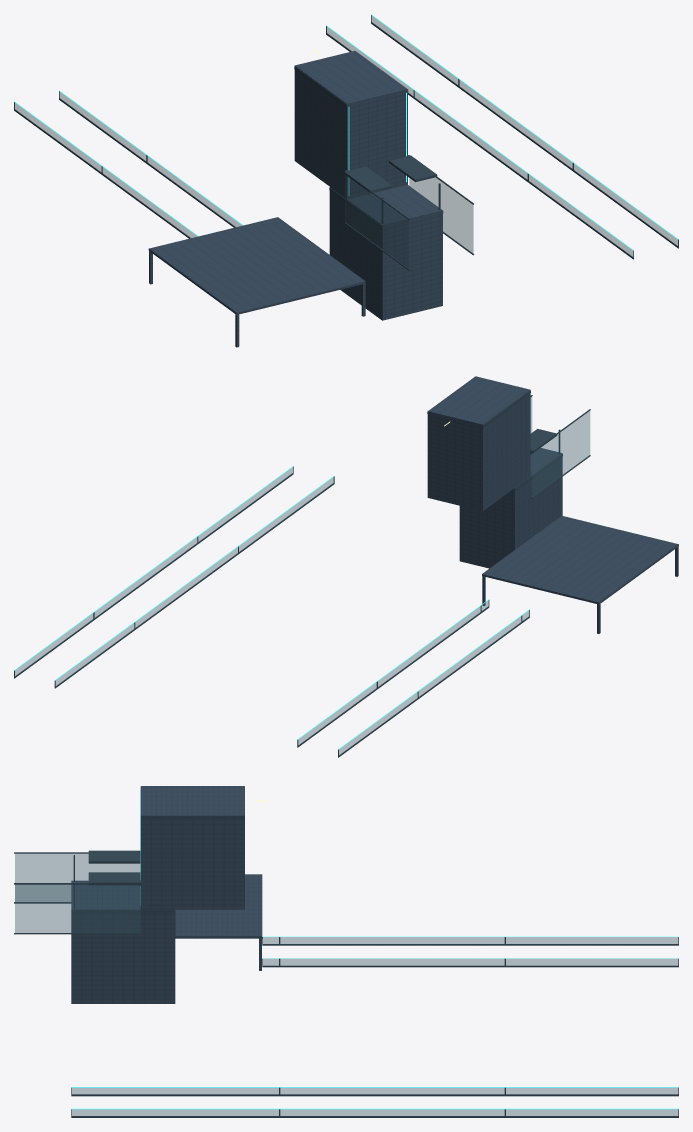
The model's file is v02-detailed-03-04.glb.
3 renders of one model, top to bottom at view 1: azimuth 30°, elevation 25°; view 2: azimuth 150°, elevation 25°; view 3: azimuth 270°, elevation 25°, orthographic. The views are drawn at different scales.
Parts seen in each view (by area): view 1: v02-detailed-03-04; view 2: v02-detailed-03-04; view 3: v02-detailed-03-04.
Part boxes in pixels (x1,y1,x2,y2): v02-detailed-03-04: [14, 14, 678, 347]; v02-detailed-03-04: [14, 376, 678, 757]; v02-detailed-03-04: [14, 786, 678, 1117].
Bounding box in the file's own units: 56.99 × 24 × 76.6.
Materials: 5 (1 with a texture image).
